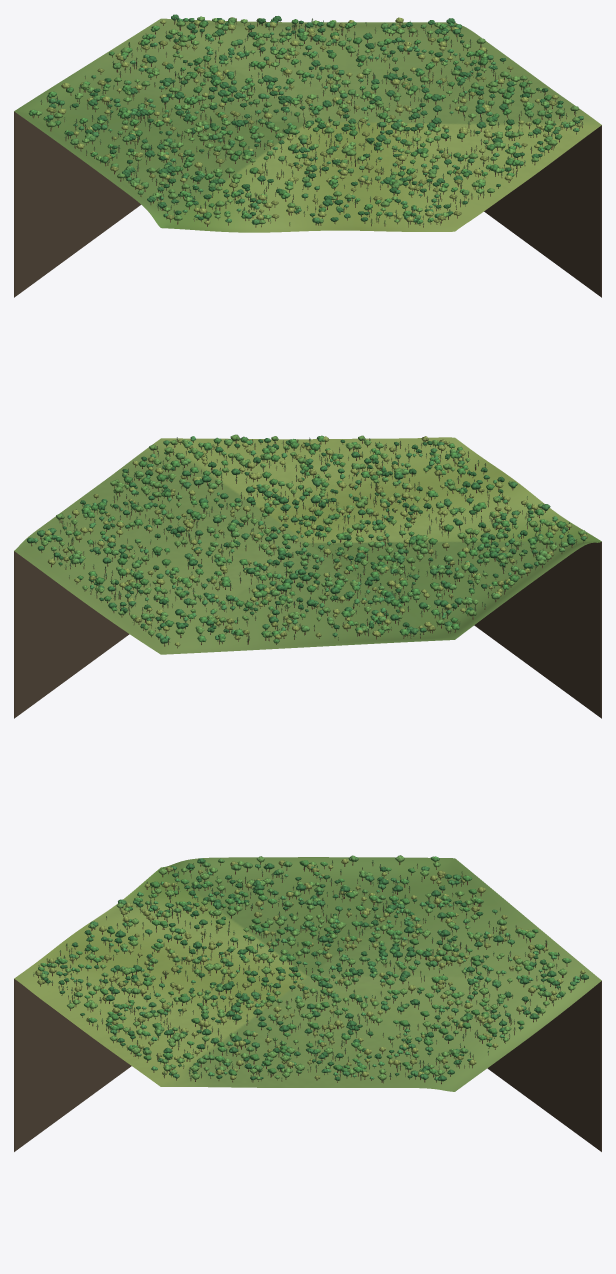
3 views of the same model, one above another, from view 1: azimuth 30°, elevation 25°; view 2: azimuth 150°, elevation 25°; view 3: azimuth 270°, elevation 25° (orthographic).
Parts seen in each view (by area): view 1: terrain, broadleaf_canopy, hex_side_cut, trunks, conifer_canopy; view 2: terrain, broadleaf_canopy, hex_side_cut, trunks, conifer_canopy; view 3: terrain, broadleaf_canopy, hex_side_cut, trunks, conifer_canopy.
Part boxes in pixels (<box>): terrain: <box>14,18,601,232</box>; broadleaf_canopy: <box>28,14,583,224</box>; hex_side_cut: <box>14,111,601,297</box>; trunks: <box>32,18,582,227</box>; conifer_canopy: <box>34,18,583,224</box>; terrain: <box>14,437,601,654</box>; broadleaf_canopy: <box>27,434,587,646</box>; hex_side_cut: <box>14,541,601,718</box>; trunks: <box>31,437,583,648</box>; conifer_canopy: <box>41,437,577,642</box>; terrain: <box>14,857,601,1091</box>; broadleaf_canopy: <box>35,855,588,1081</box>; hex_side_cut: <box>14,979,601,1151</box>; trunks: <box>33,860,584,1084</box>; conifer_canopy: <box>33,860,580,1080</box>.
Bounding box in the file's own units: 4330 × 1817 × 5000.
Materials: 6 (1 with a texture image).
